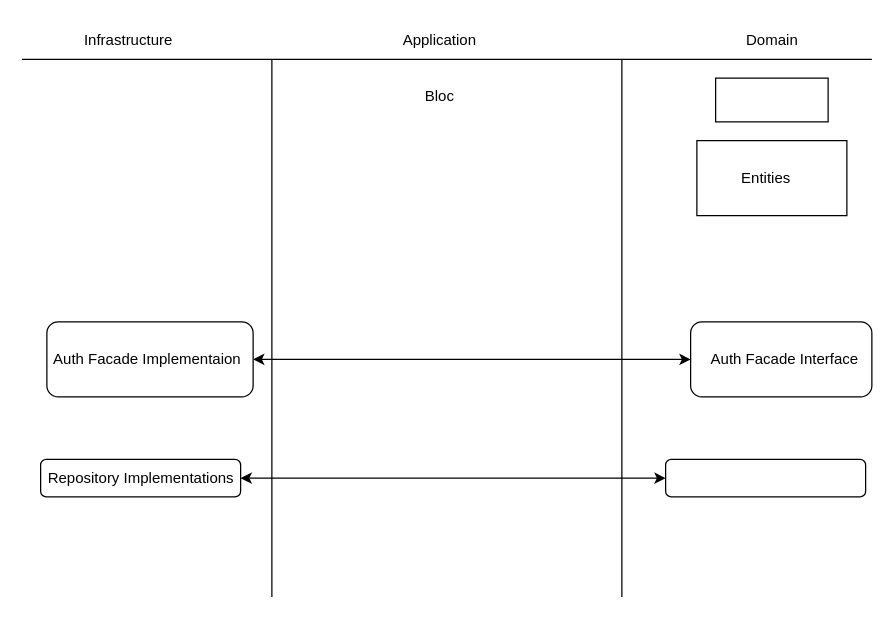
The diagram is 895 pixels wide and 620 high, and some of its shapes have lost their labels. Here are the shapes that lost their labels. From the top down, the centre of each, then its label:
At point 771,99: "Value Objects".
At point 765,477: "Repository Interfaces".
